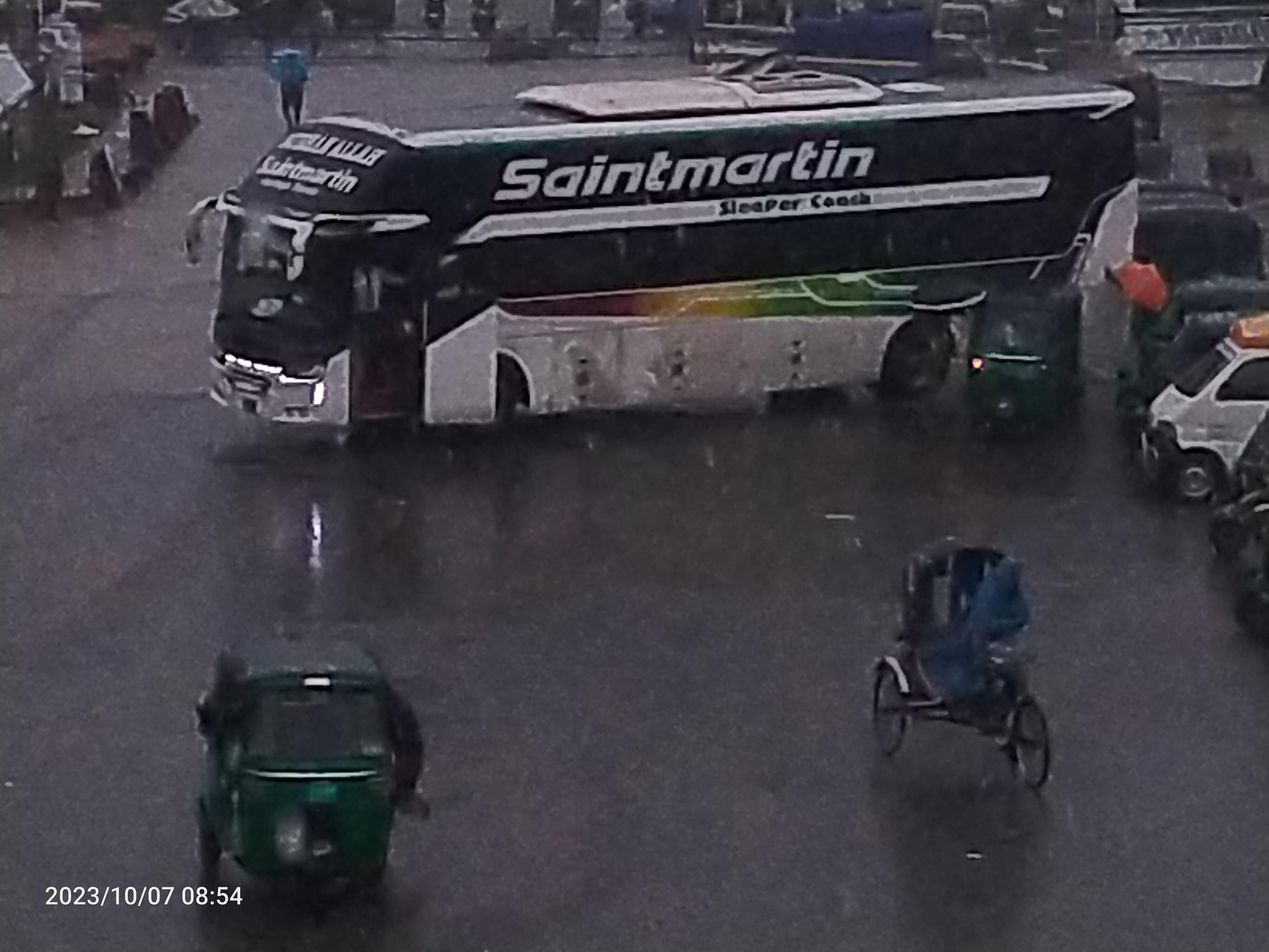Bus: (135, 36, 1162, 464)
Car: (853, 506, 1103, 817)
